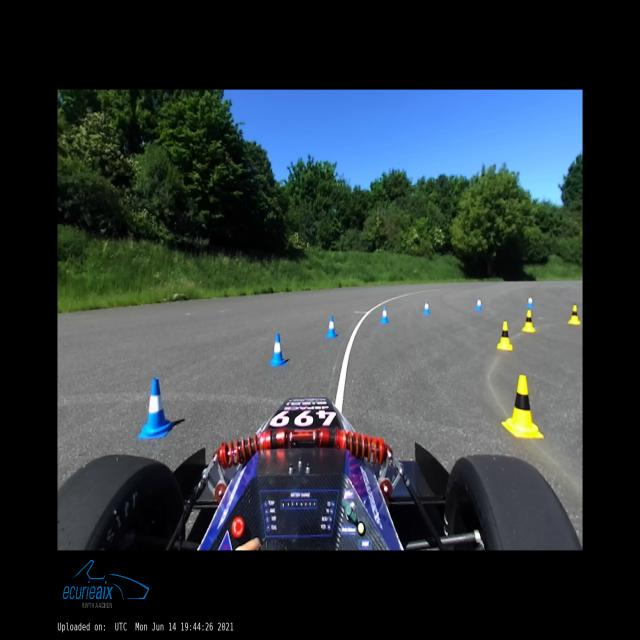blue_cone: (138, 378, 173, 439), (270, 333, 286, 367), (326, 316, 338, 338), (381, 307, 388, 323), (423, 301, 430, 314), (527, 296, 533, 308), (476, 298, 482, 310)
yellow_cone: (501, 375, 544, 439), (496, 321, 513, 351), (522, 310, 536, 333), (568, 305, 581, 325)
